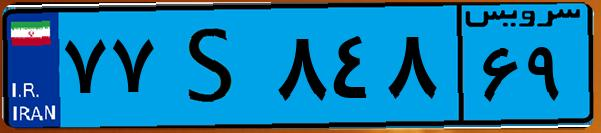4: (330, 28, 385, 110)
6: (475, 38, 525, 113)
7: (57, 26, 110, 100), (110, 28, 158, 98)
8: (270, 28, 330, 110), (385, 28, 445, 110)
9: (525, 38, 570, 115)
S: (158, 12, 270, 120)
